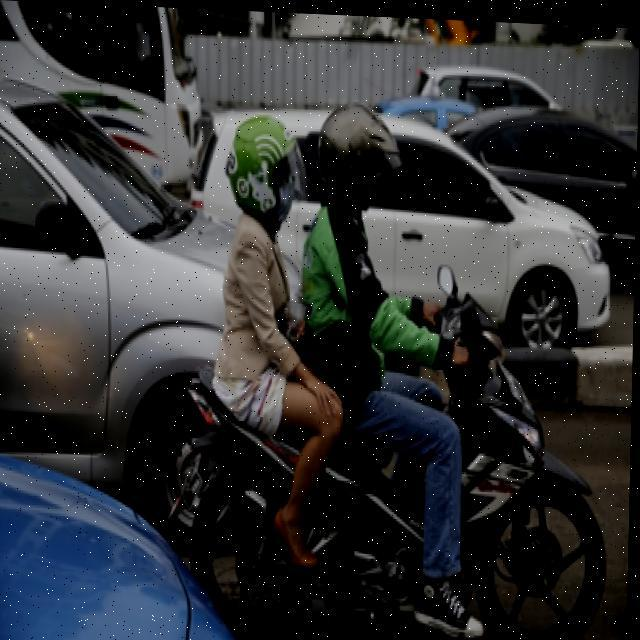With Helmet: (310, 86, 408, 222), (223, 108, 303, 234)
